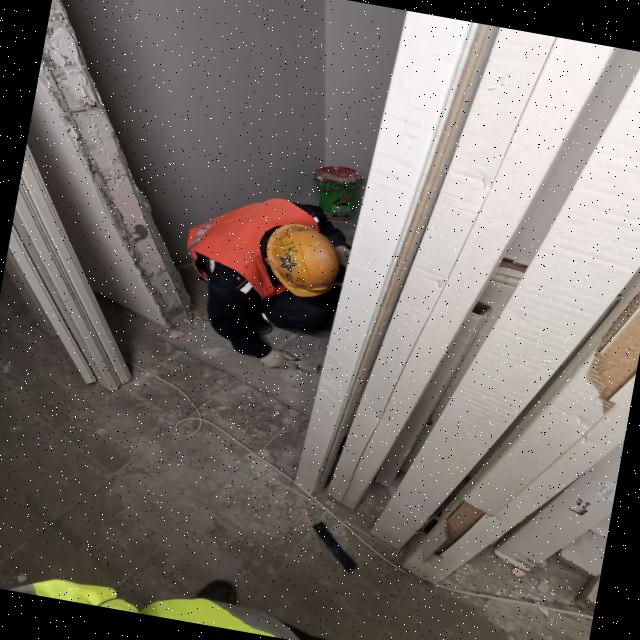Helmet: (259, 221, 344, 301)
Jacket: (191, 192, 287, 284)
